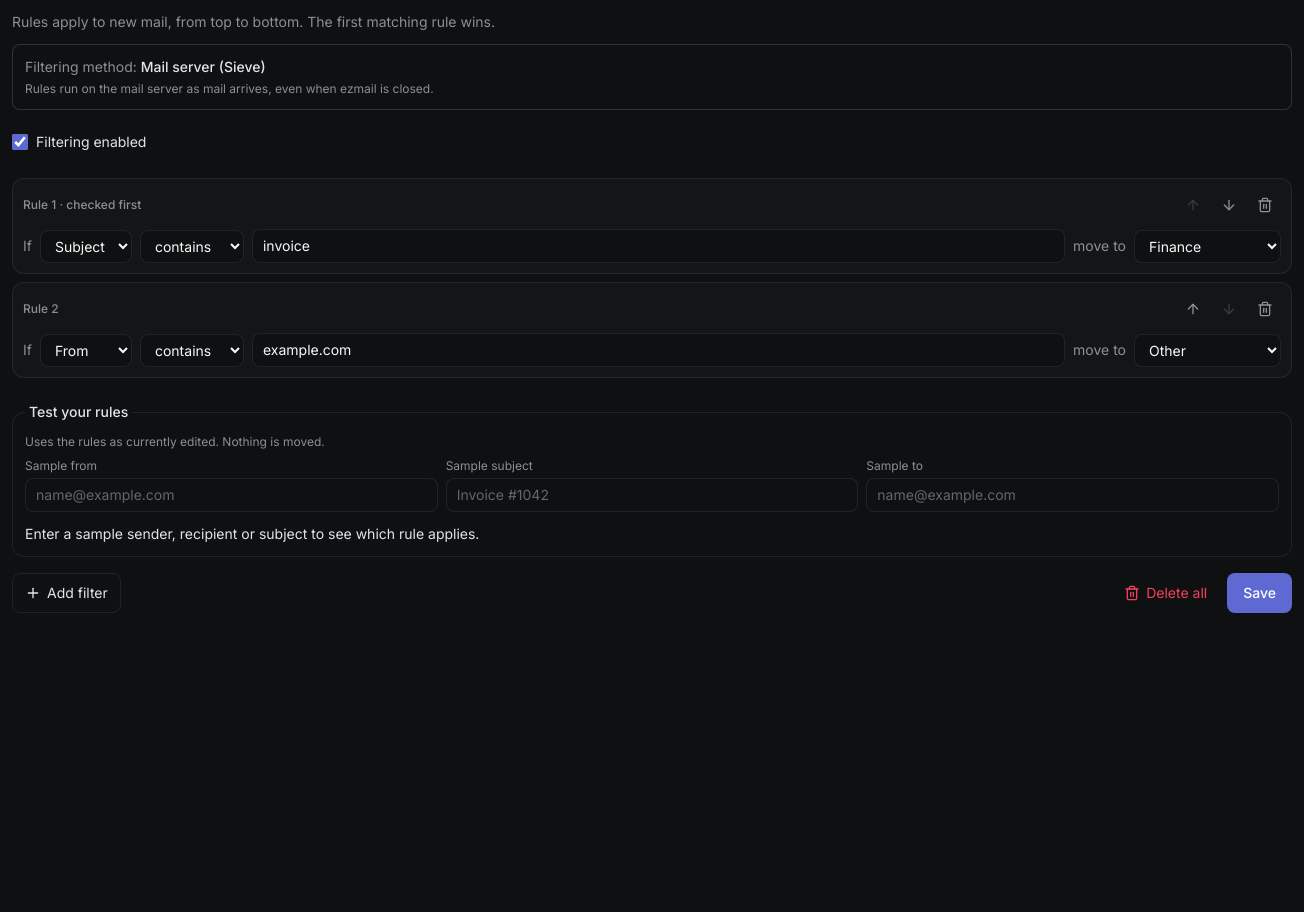
Test case: rules can be reordered and the order is saved
Expected: the field showing "invoice" is shown, [252, 229, 1065, 263]
Step 1. Click the button named "Move rule 1 down" → (1229, 205), box [1213, 189, 1245, 221]
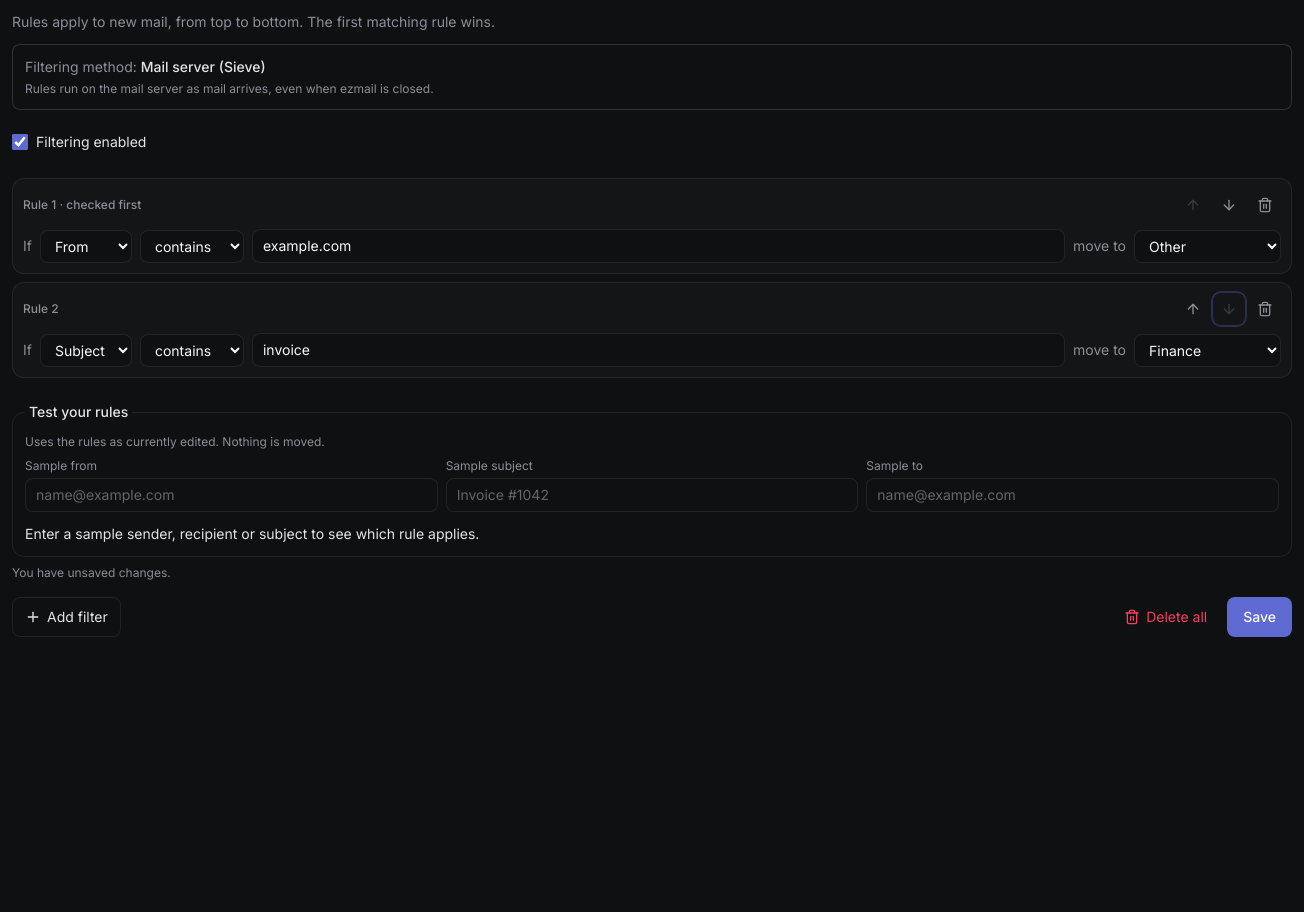
Expected: the field named "Rule 1: text to match" holds "example.com", [252, 229, 1065, 263]
Step 2. Click the button "Save" → (1260, 617), box [1227, 597, 1292, 637]
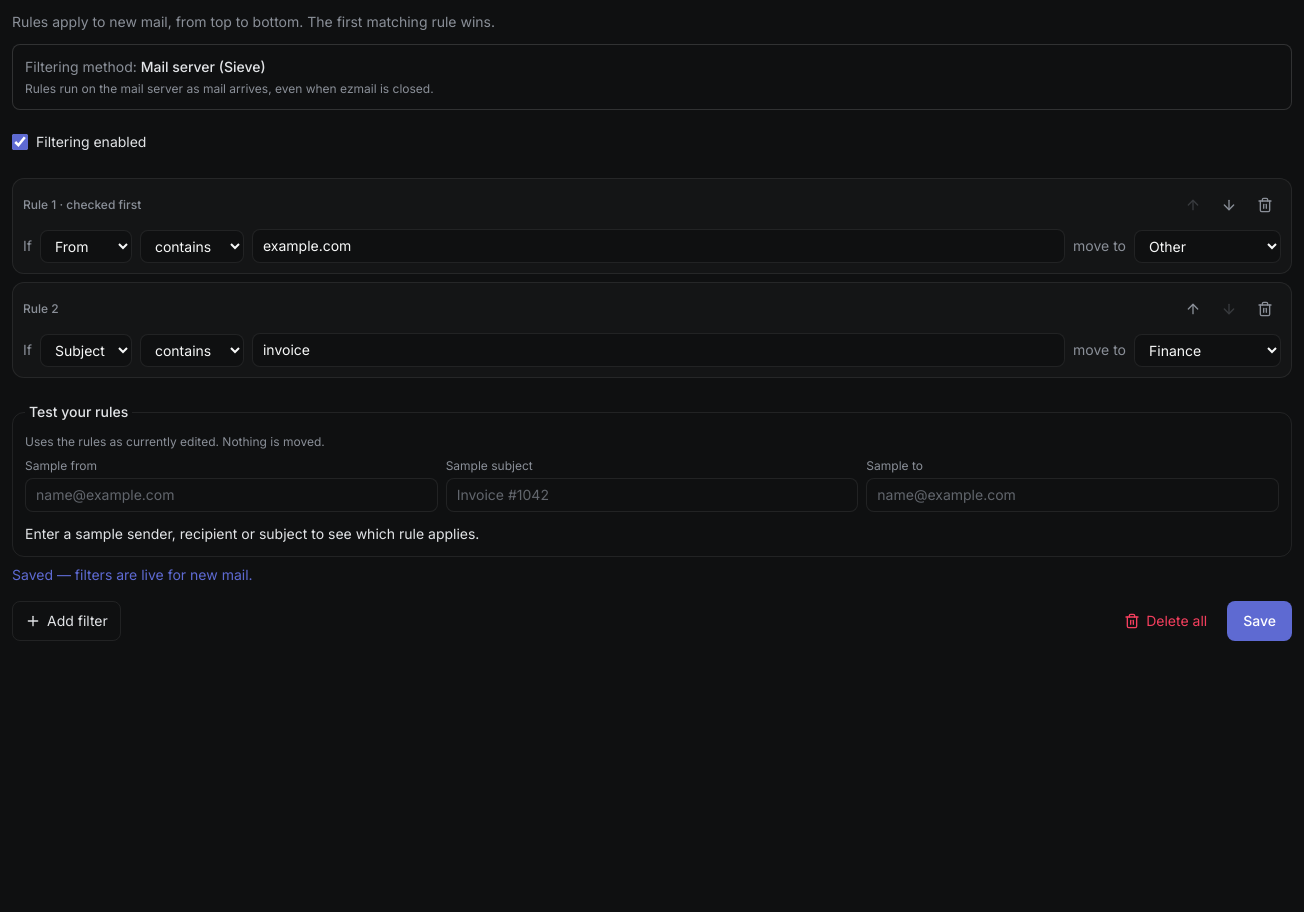
Expected: the text "Saved — filters are live for new mail." is shown, [12, 566, 253, 583]
